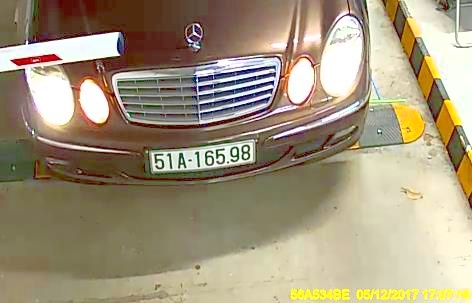plate: (149, 142, 257, 172)
